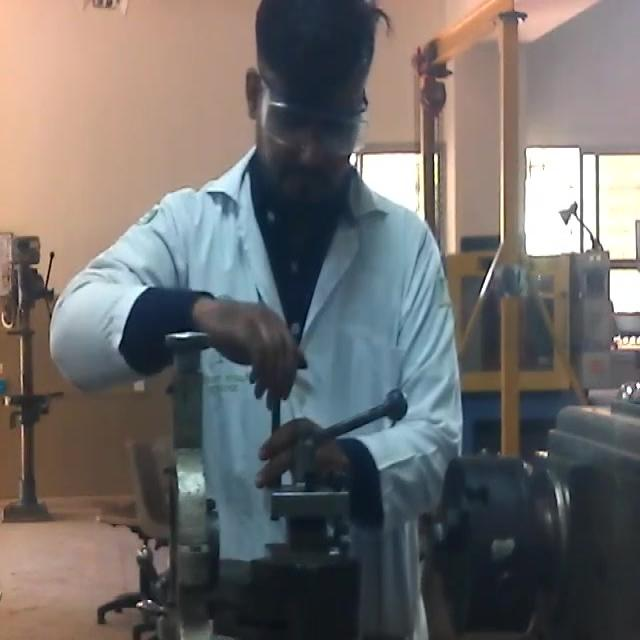googles: (255, 87, 364, 160)
labcoat: (50, 148, 466, 640)
